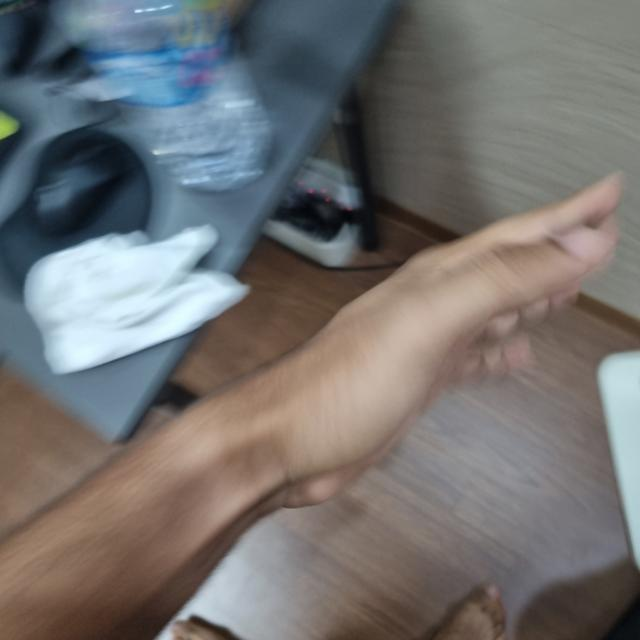Paper: (234, 179, 625, 502)
